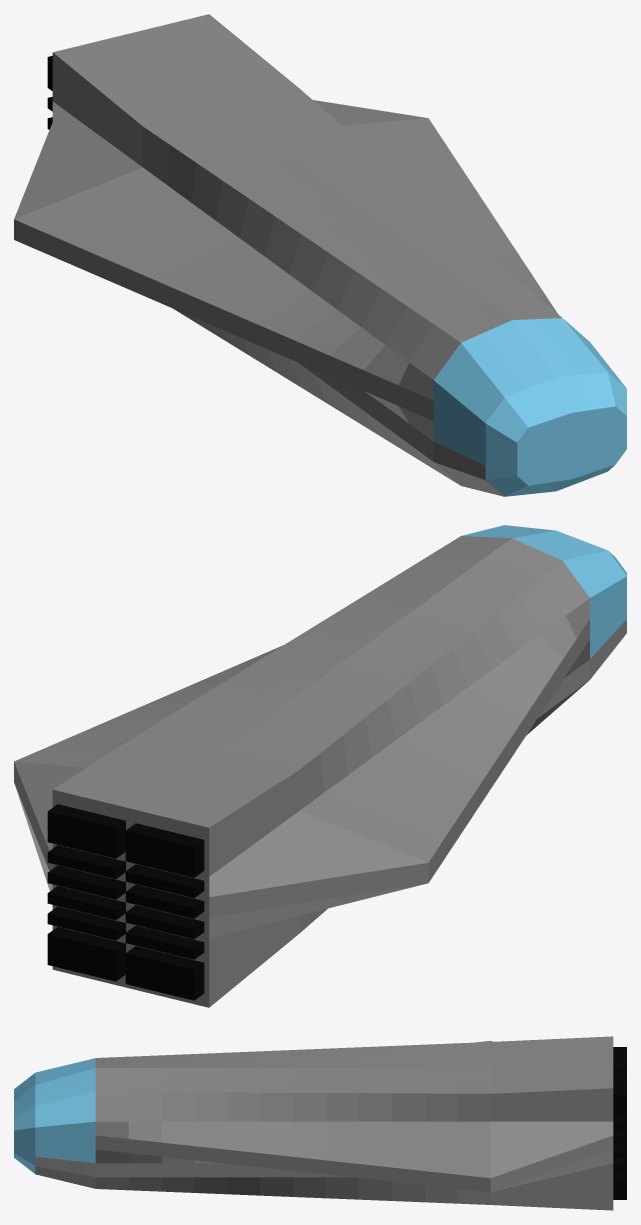
Rendered from raumshuttleV1.glb.
The picture shows the model from 3 angles, top to bottom: view 1: azimuth 30°, elevation 25°; view 2: azimuth 150°, elevation 25°; view 3: azimuth 270°, elevation 25°; orthographic projection. The views are drawn at different scales.
Visible parts, largest first — view 1: Cube; view 2: Cube; view 3: Cube.
Part boxes in pixels (<box>): Cube: <box>14,14,626,496</box>; Cube: <box>14,525,626,1007</box>; Cube: <box>14,1036,626,1210</box>.
Bounding box in the file's own units: 5.3 × 2.2 × 9.99.
